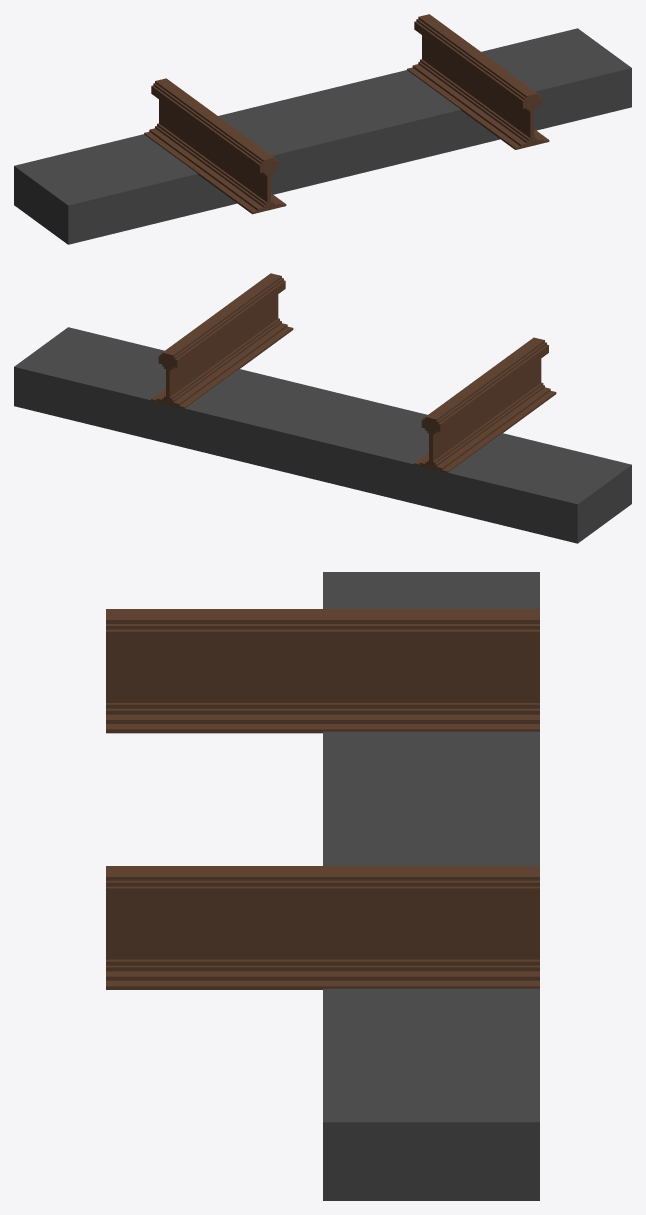
File: Rail.fbx
The picture shows the model from 3 angles, top to bottom: view 1: azimuth 30°, elevation 25°; view 2: azimuth 150°, elevation 25°; view 3: azimuth 270°, elevation 25°; orthographic projection. The views are drawn at different scales.
Visible parts, largest first — view 1: model (×5); view 2: model (×5); view 3: model (×5).
Boxes of the visible parts, x1,y1,x2,y2 form: model (×5): (14, 14, 631, 244); model (×5): (14, 273, 631, 543); model (×5): (106, 572, 539, 1200).
Size of the model in its own units: 3 by 0.456 by 1.
